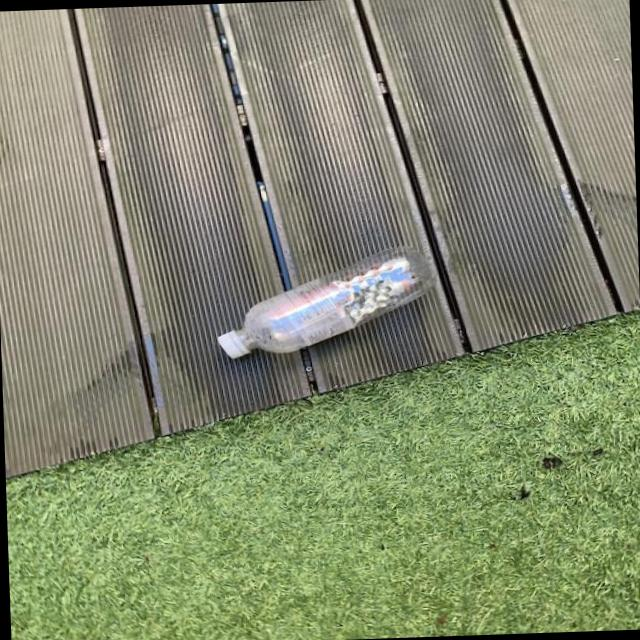plastic_bottle: (213, 245, 440, 360)
